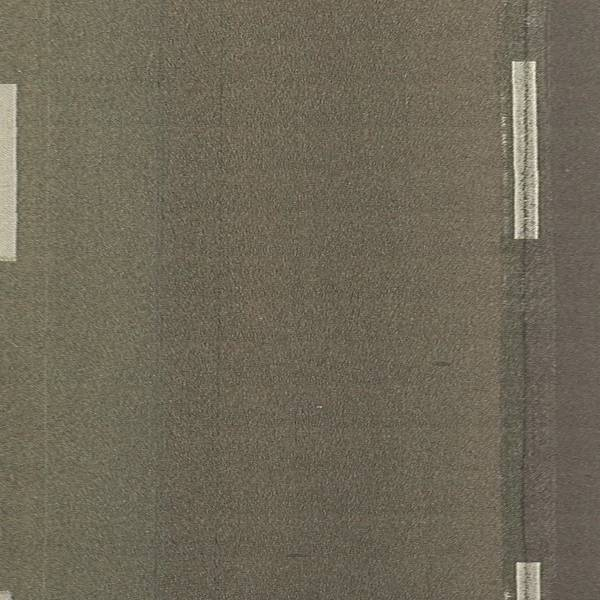road_damage: (512, 1, 541, 600)
